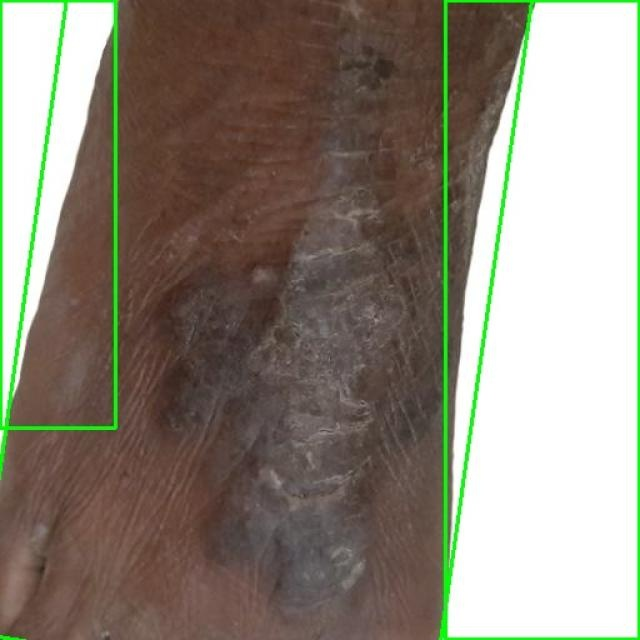Eczema: (0, 0, 532, 640), (445, 0, 639, 639), (0, 0, 115, 428)
